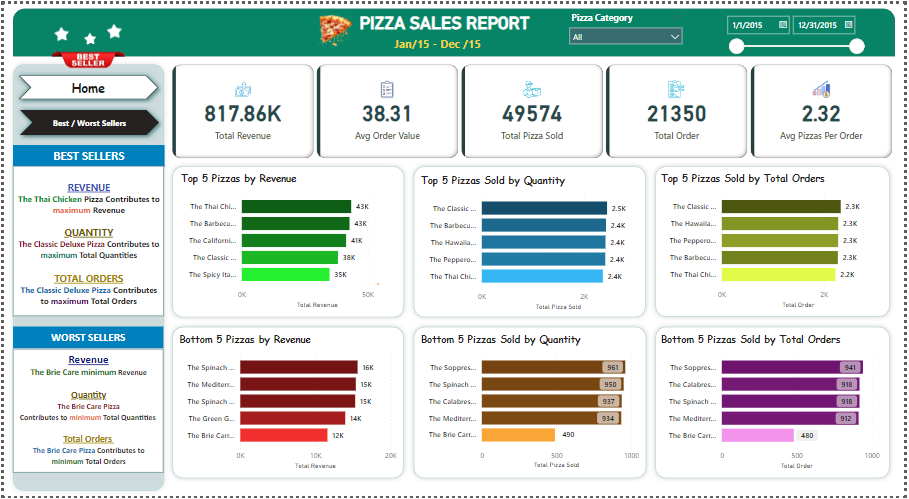

What the dashboard file says about the page in this screenshot:
{"tool":"powerbi","page":{"name":"Best / Worst Sellers","canvas":[1500,820],"ordinal":1},"visuals":[{"type":"cardVisual","fields":{"Data":["pizza_sales.Total Revenue","pizza_sales.Avg Order Value","pizza_sales.Total Pizza Sold","pizza_sales.Total Order","pizza_sales.Avg Pizzas Per Order"]},"box":[275,95,1210,167.5],"z":0},{"type":"shape","box":[15,7.5,1470,80],"z":1000},{"type":"shape","box":[7.5,93.3,267.5,726.7],"z":2000},{"type":"textbox","box":[588,10,322,46],"z":3000},{"type":"textbox","box":[646,48,170,54],"z":4000},{"type":"textbox","box":[14.2,235.8,252.5,35.8],"z":5000},{"type":"textbox","box":[15.6,271.1,251.1,250],"z":6000},{"type":"textbox","box":[15.6,538.1,250.6,36.2],"z":7000},{"type":"textbox","box":[15.6,573.8,250.6,206.2],"z":8000},{"type":"slicer","fields":{"Values":["pizza_sales.pizza_category"]},"box":[932,8,208,90],"z":9000},{"type":"slicer","fields":{"Values":["pizza_sales.order_date"]},"box":[1192,10,250,76],"z":10000},{"type":"shape","box":[273.3,263.3,402.2,267.8],"z":11000},{"type":"shape","box":[1078.3,263.3,406.7,266.7],"z":12000},{"type":"shape","box":[675,262.5,402.5,267.5],"z":13000},{"type":"shape","box":[273.3,530,401.7,268.3],"z":14000},{"type":"shape","box":[675,530,403.3,268.3],"z":15000},{"type":"shape","box":[1078.3,530,406.7,268.3],"z":16000},{"type":"barChart","title":"Top 5 Pizzas by Revenue","fields":{"Category":["pizza_sales.pizza_name"],"Y":["pizza_sales.Total Revenue"]},"box":[290,280,372.9,231.4],"z":17000},{"type":"barChart","title":"Bottom 5 Pizzas by Revenue","fields":{"Category":["pizza_sales.pizza_name"],"Y":["pizza_sales.Total Revenue"]},"box":[288.3,548.3,371.7,231.7],"z":18000},{"type":"barChart","title":"Top 5 Pizzas Sold by Quantity","fields":{"Category":["pizza_sales.pizza_name"],"Y":["pizza_sales.Total Pizza Sold"]},"box":[690,281.7,373.3,231.7],"z":19000},{"type":"barChart","title":"Bottom 5 Pizzas Sold by Quantity","fields":{"Category":["pizza_sales.pizza_name"],"Y":["pizza_sales.Total Pizza Sold"]},"box":[690,548.6,372.9,231.4],"z":20000},{"type":"barChart","title":"Top 5 Pizzas Sold by Total Orders","fields":{"Category":["pizza_sales.pizza_name"],"Y":["pizza_sales.Total Order"]},"box":[1090,280,373.3,231.7],"z":21000},{"type":"barChart","title":"Bottom 5 Pizzas Sold by Total Orders","fields":{"Category":["pizza_sales.pizza_name"],"Y":["pizza_sales.Total Order"]},"box":[1090,548,374,232],"z":22000},{"type":"pageNavigator","box":[16,110,252,58.6],"z":23000},{"type":"pageNavigator","box":[16.7,168.3,250.8,60.8],"z":24000},{"type":"image","box":[512,10,76,68],"z":25000},{"type":"image","box":[5.4,62.3,273.8,68.5],"z":26000},{"type":"image","box":[145,26.7,78.3,35],"z":27000},{"type":"image","box":[104.3,41.9,76.7,30],"z":28000},{"type":"image","box":[57.6,31.4,77.6,34.3],"z":29000}]}

Visuals, with their boxes in screenshot pixels (x1, y1, x2, y2), scaled from the page's 1500x820 canvas onto the 909x499 screenshot:
cardVisual - pizza_sales.Total Revenue x pizza_sales.Avg Order Value: Rect(167, 58, 900, 160)
shape: Rect(9, 5, 900, 53)
shape: Rect(5, 57, 167, 498)
textbox: Rect(356, 6, 551, 34)
textbox: Rect(391, 29, 494, 62)
textbox: Rect(9, 143, 162, 165)
textbox: Rect(9, 165, 162, 317)
textbox: Rect(9, 327, 161, 349)
textbox: Rect(9, 349, 161, 475)
slicer - pizza_sales.pizza_category: Rect(565, 5, 691, 60)
slicer - pizza_sales.order_date: Rect(722, 6, 874, 52)
shape: Rect(166, 160, 409, 323)
shape: Rect(653, 160, 900, 323)
shape: Rect(409, 160, 653, 323)
shape: Rect(166, 323, 409, 486)
shape: Rect(409, 323, 653, 486)
shape: Rect(653, 323, 900, 486)
"Top 5 Pizzas by Revenue" barChart: Rect(176, 170, 402, 311)
"Bottom 5 Pizzas by Revenue" barChart: Rect(175, 334, 400, 475)
"Top 5 Pizzas Sold by Quantity" barChart: Rect(418, 171, 644, 312)
"Bottom 5 Pizzas Sold by Quantity" barChart: Rect(418, 334, 644, 475)
"Top 5 Pizzas Sold by Total Orders" barChart: Rect(661, 170, 887, 311)
"Bottom 5 Pizzas Sold by Total Orders" barChart: Rect(661, 333, 887, 475)
pageNavigator: Rect(10, 67, 162, 103)
pageNavigator: Rect(10, 102, 162, 139)
image: Rect(310, 6, 356, 47)
image: Rect(3, 38, 169, 80)
image: Rect(88, 16, 135, 38)
image: Rect(63, 25, 110, 44)
image: Rect(35, 19, 82, 40)
